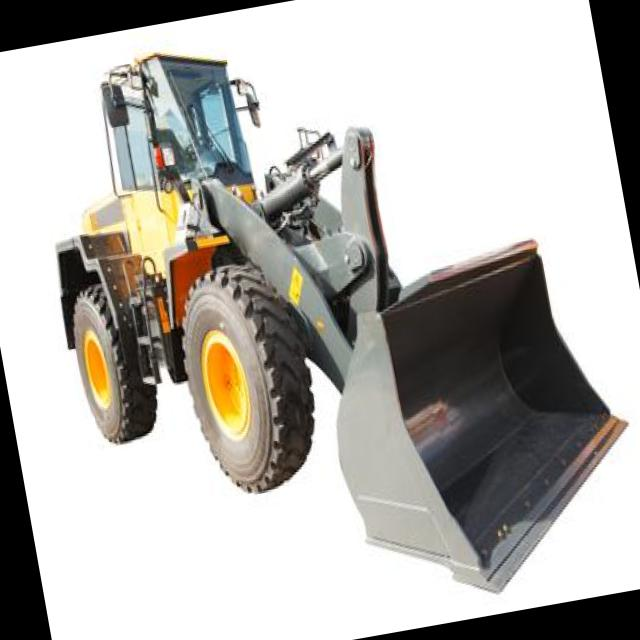pala cargadora: (10, 0, 640, 640)
